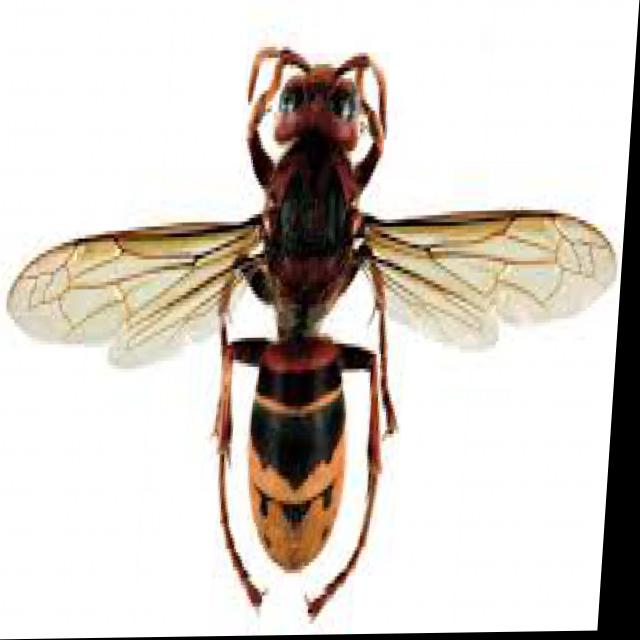Vespa Velutina: (0, 36, 635, 636)
